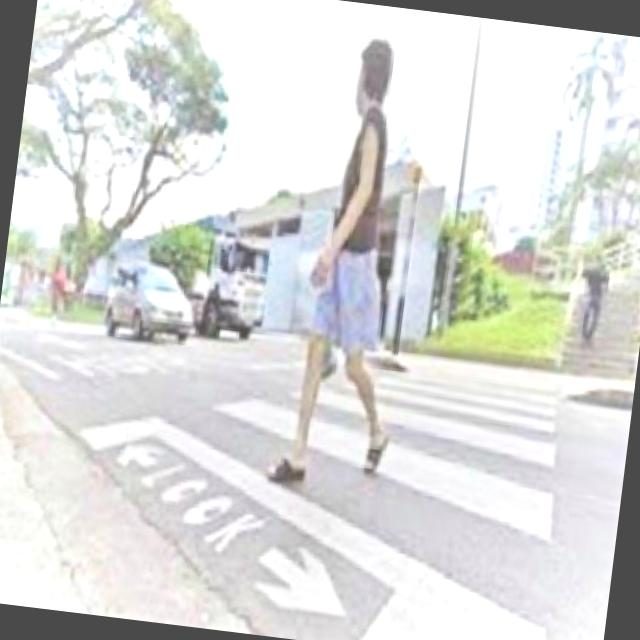Person: (262, 22, 440, 504)
